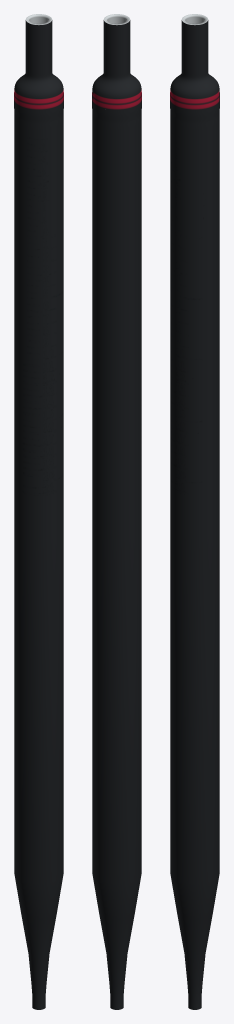
File: pipette.glb
3 renders of one model, left to right at view 1: azimuth 30°, elevation 25°; view 2: azimuth 150°, elevation 25°; view 3: azimuth 330°, elevation 25°, orthographic.
Visible parts, largest first — view 1: observed_video_print, physical_PS_shell; view 2: observed_video_print, physical_PS_shell; view 3: observed_video_print, physical_PS_shell.
Boxes of the visible parts, x1,y1,x2,y2 form: observed_video_print: (14,20,63,1009); physical_PS_shell: (25,14,52,25); observed_video_print: (92,20,141,1009); physical_PS_shell: (103,14,130,25); observed_video_print: (170,20,219,1009); physical_PS_shell: (181,14,208,25).
Size of the model in its own units: 0.0151 by 0.33 by 0.0151.
2 materials, 1 textured.
